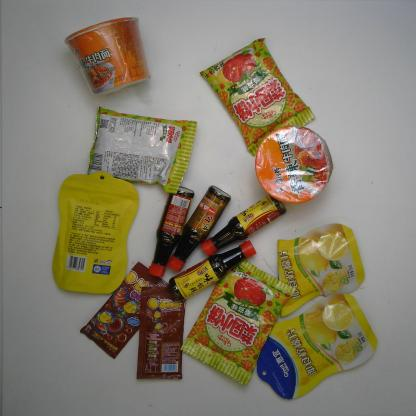Candy: (79, 261, 169, 358), (134, 284, 187, 382)
Dried Fruit: (255, 294, 377, 400), (52, 171, 141, 296), (273, 222, 366, 316)
Instant Noodles: (63, 17, 150, 96), (255, 127, 333, 204)
Puffed Food: (180, 259, 296, 387), (198, 38, 314, 158), (81, 104, 197, 195)
Seasoner: (201, 192, 288, 257), (167, 184, 231, 272), (169, 240, 258, 302), (148, 185, 194, 278)
